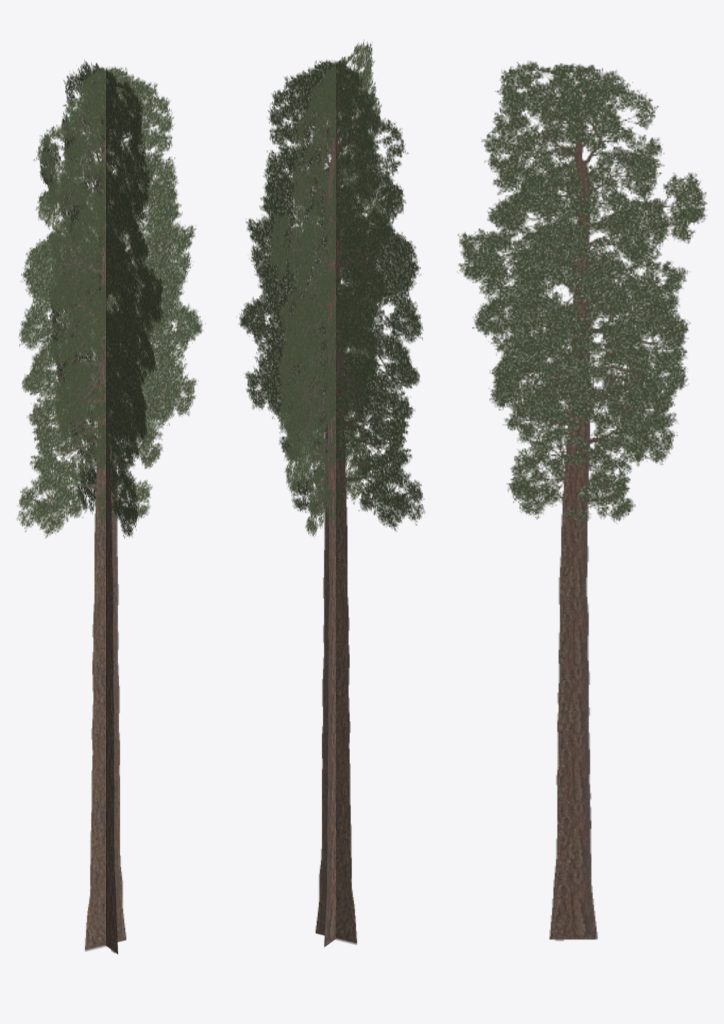
Rendered from SequoiaSempervirens.glb.
The picture shows the model from 3 angles, left to right: view 1: azimuth 30°, elevation 25°; view 2: azimuth 150°, elevation 25°; view 3: azimuth 270°, elevation 25°; orthographic projection.
Visible parts, largest first — view 1: mesh__mat_billboard_5; view 2: mesh__mat_billboard_5; view 3: mesh__mat_billboard_5.
Part boxes in pixels (x1,y1,x2,y2): mesh__mat_billboard_5: [16, 59, 203, 954]; mesh__mat_billboard_5: [238, 40, 425, 947]; mesh__mat_billboard_5: [457, 61, 707, 940].
Size of the model in its own units: 17.32 by 77.56 by 19.73.
1 material, 1 textured.
